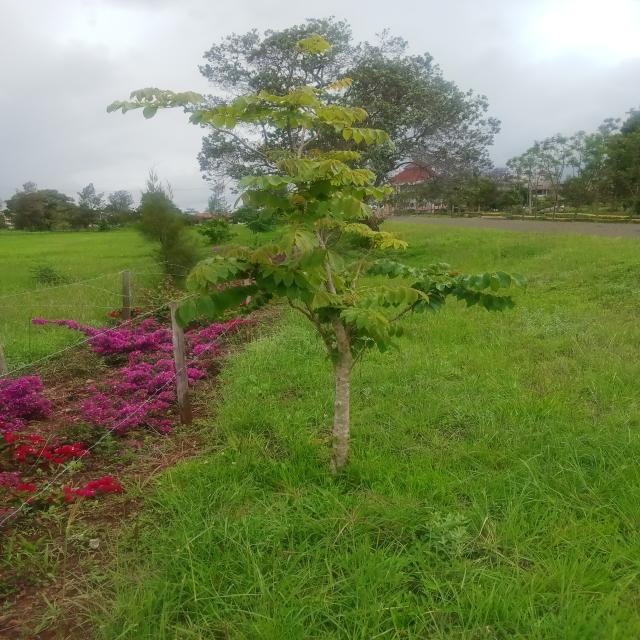Polyscias Kikuyensis: (110, 70, 553, 478)
